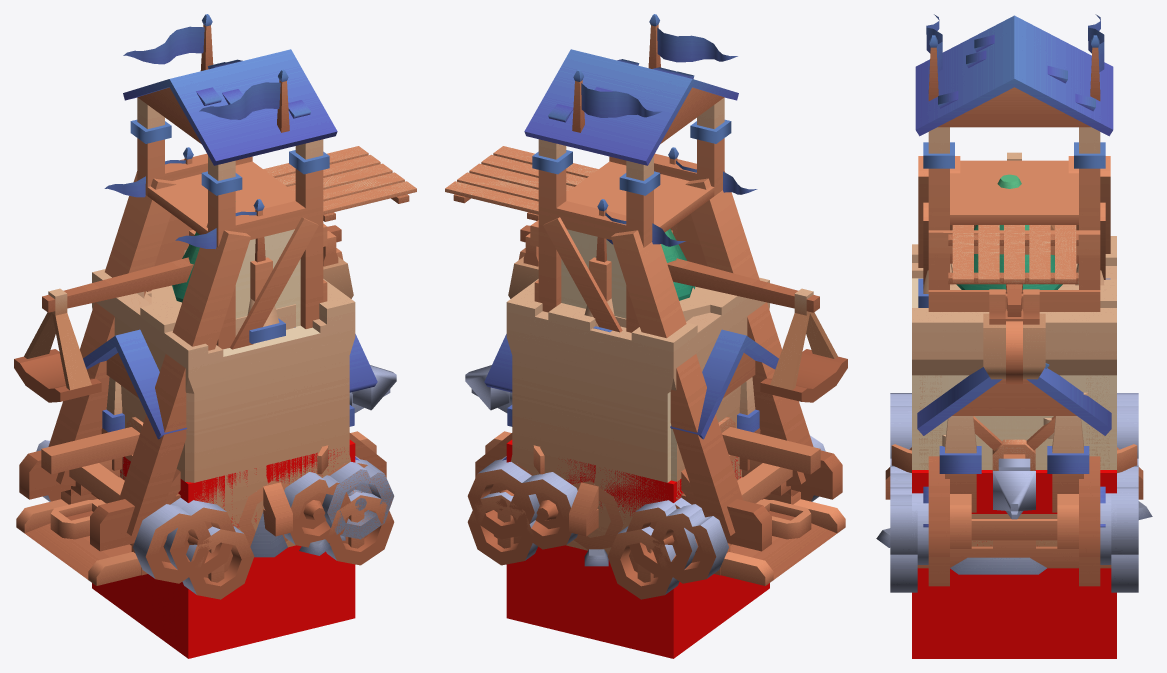
File: paired-animation.glb
3 views of the same model, side by side, from view 1: azimuth 30°, elevation 25°; view 2: azimuth 150°, elevation 25°; view 3: azimuth 270°, elevation 25° (orthographic). The views are drawn at different scales.
Parts seen in each view (by area): view 1: siege-tower, wall, TestCube, wall-doorway, siege-ram, siege-trebuchet, catapult.001, wall-corner, bridge-draw, ram, wheel.010, arm (+10 smaller); view 2: siege-tower, wall, TestCube, wall-doorway, siege-ram, wall-corner, catapult.001, siege-trebuchet, bridge-draw, ram, wheel.012, wheel.013 (+10 smaller); view 3: siege-tower, TestCube, siege-ram, wall, wall-corner, weight, siege-trebuchet, siege-catapult, ram, rocks-large, wheel.006, wheel.009 (+13 smaller).
Part boxes in pixels (x1,y1,x2,y2): siege-tower: (19,14,416,551); wall: (92,269,355,547); TestCube: (92,440,355,658); wall-doorway: (92,269,271,527); siege-ram: (71,329,377,495); siege-trebuchet: (63,147,386,536); catapult.001: (14,288,101,402); wall-corner: (92,272,355,482); bridge-draw: (16,499,141,585); ram: (41,365,396,474); wheel.010: (133,504,211,583); arm: (42,225,341,312); siege-tower: (445,14,842,551); wall: (506,278,769,554); TestCube: (506,440,769,658); wall-doorway: (590,290,768,514); siege-ram: (484,329,790,495); wall-corner: (506,278,769,500); catapult.001: (760,288,847,402); siege-trebuchet: (475,147,798,536); bridge-draw: (720,499,845,585); ram: (465,365,820,474); wheel.012: (651,504,728,583); wheel.013: (509,472,577,549); siege-tower: (915,14,1113,311); TestCube: (912,470,1116,658); siege-ram: (917,363,1111,548); wall: (912,236,1116,546); wall-corner: (912,236,1116,469); weight: (983,289,1045,384); siege-trebuchet: (885,253,1143,556); siege-catapult: (917,486,1111,586); ram: (993,454,1035,511); rocks-large: (876,501,1152,574); wheel.006: (1111,487,1138,554); wheel.009: (890,487,917,554).
Size of what is drawn, in the model's own units: 2.14 by 3.18 by 1.35.
Materials: 19 (18 with a texture image).
